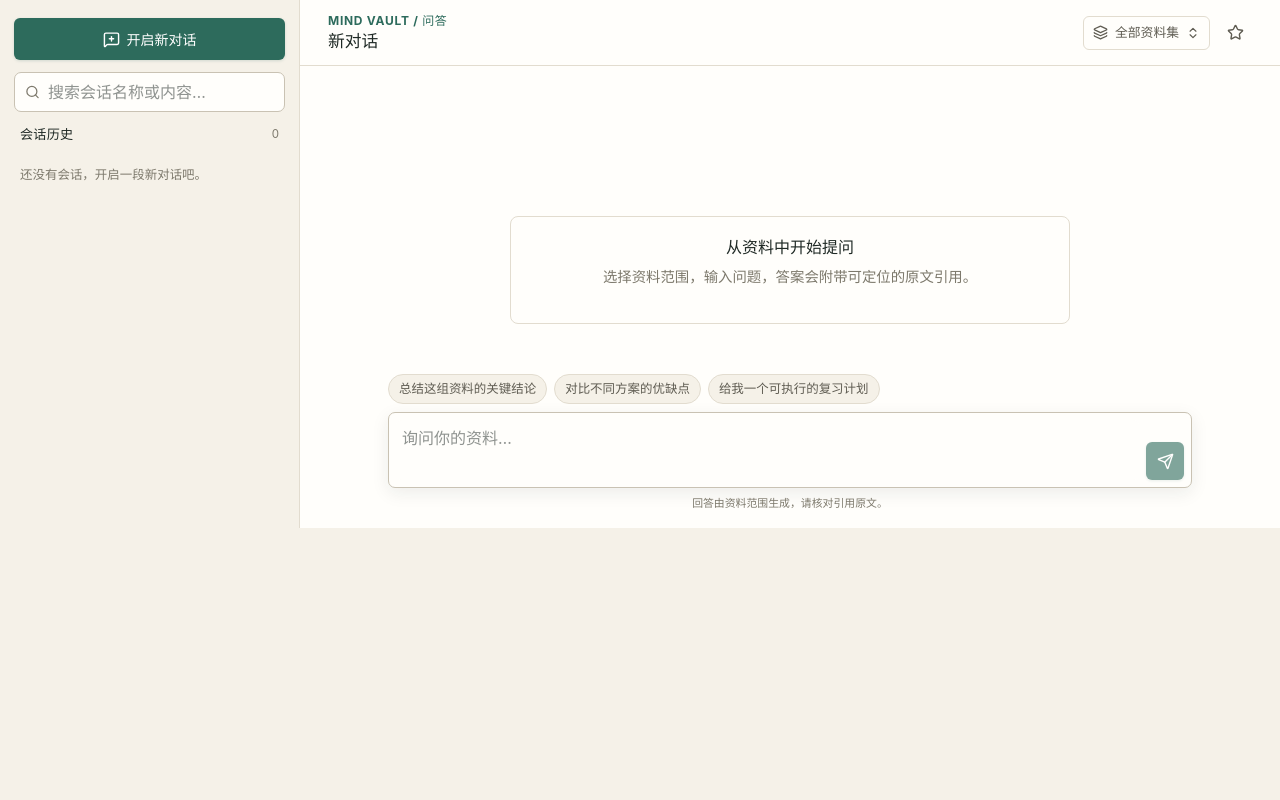
Scenario: ChatPage › shows a retryable error when creating a conversation fails
The width and height of the screenshot is (1280, 800).
Type "原始问题" into the text box named "输入问题".
click(768, 450); type("原始问题")  # box [396,420,1139,480]
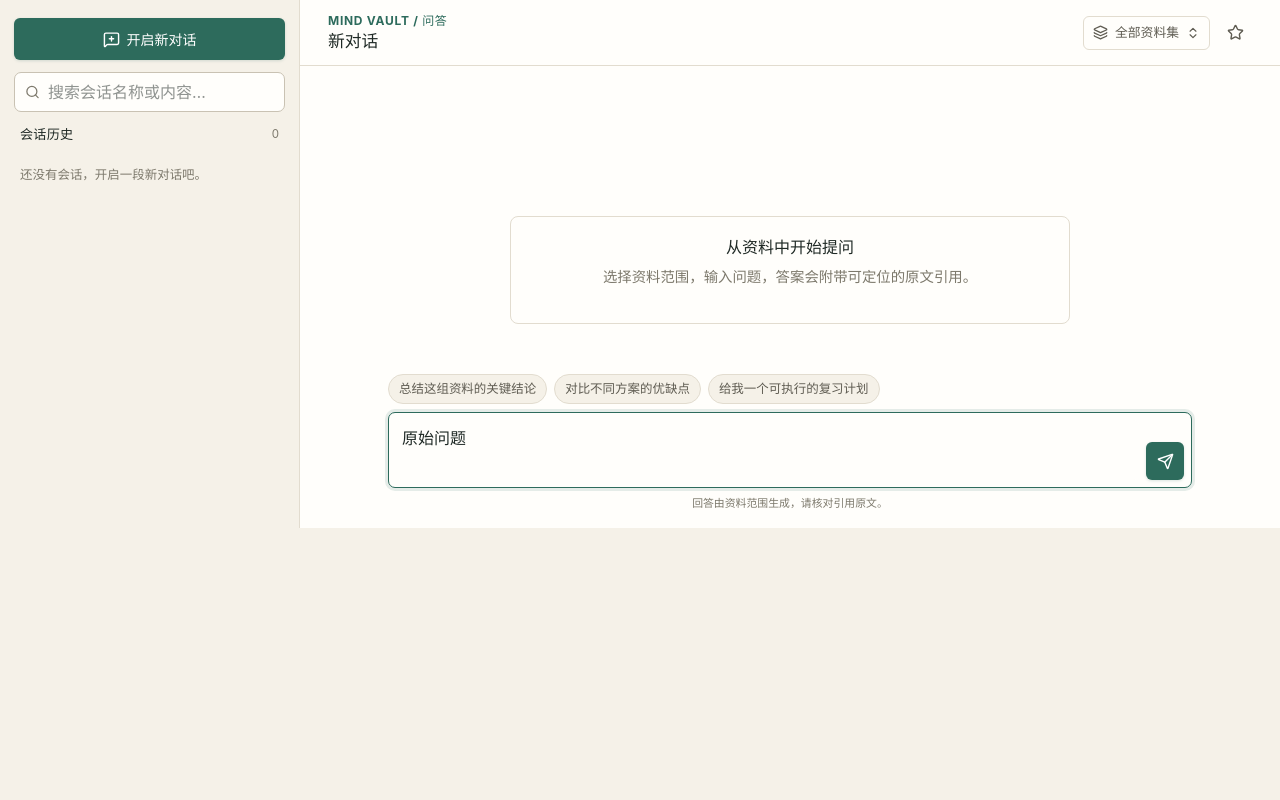
Click the button named "发送问题".
click(1165, 461)  # box [1146,442,1184,480]
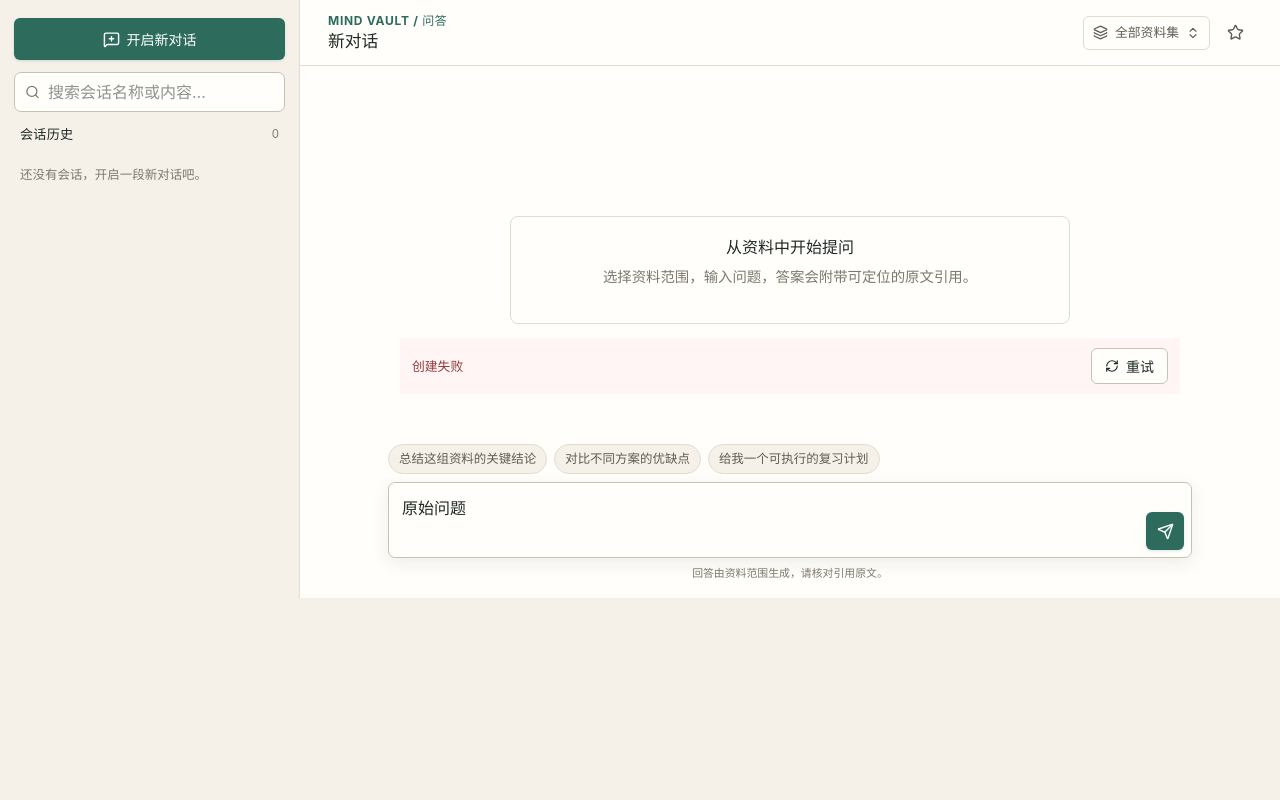
Check: the message shows "创建失败", box [412,359,463,374]
Check: the button "重试" is shown, box [1091,348,1168,384]
